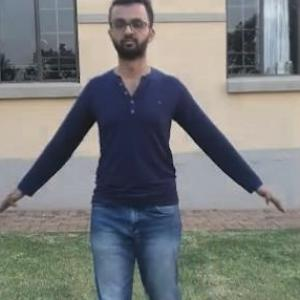land: (0, 0, 262, 299)
